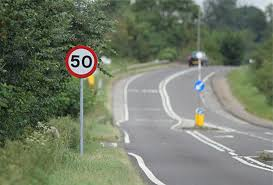Speed_limit_50km: (64, 44, 98, 79)
